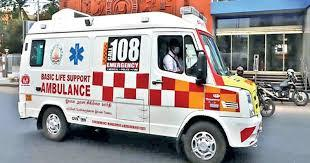ER: (18, 7, 263, 163)
